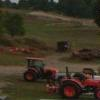Tractor: (16, 50, 100, 100)
